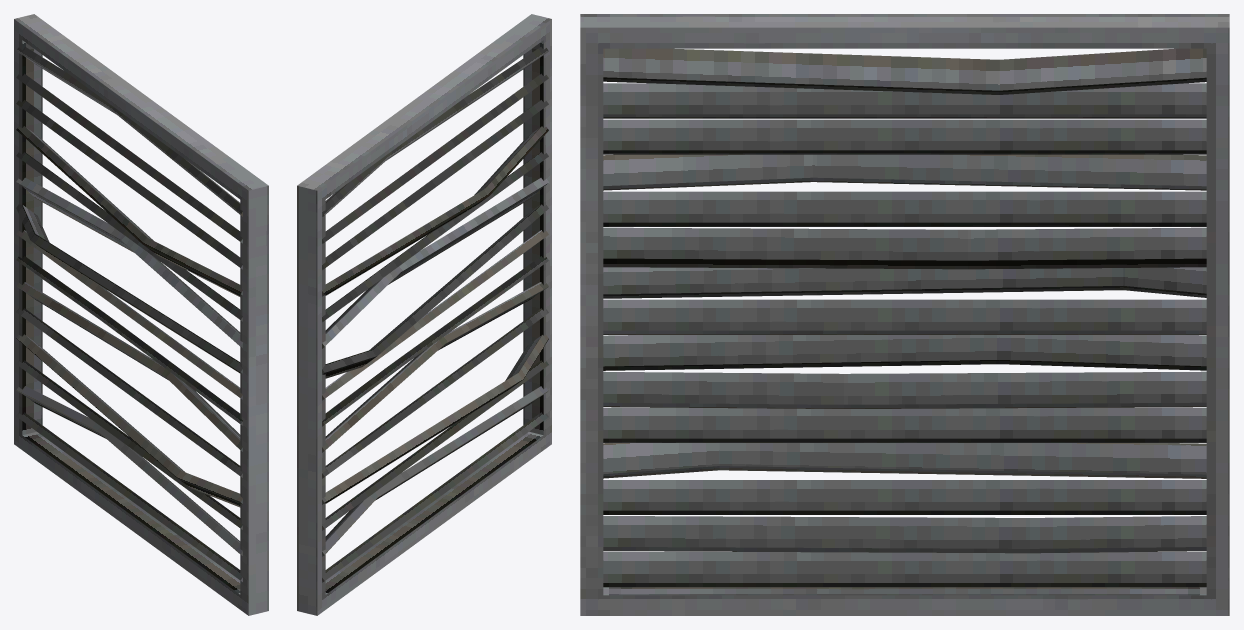
File: vent_cover_see_through_damaged.glb
3 renders of one model, left to right at view 1: azimuth 30°, elevation 25°; view 2: azimuth 150°, elevation 25°; view 3: azimuth 270°, elevation 25°, orthographic. The views are drawn at different scales.
Parts seen in each view (by area): view 1: vent_cover_see_through_damaged; view 2: vent_cover_see_through_damaged; view 3: vent_cover_see_through_damaged.
Part boxes in pixels (bbox=[...]): vent_cover_see_through_damaged: bbox=[14, 14, 268, 615]; vent_cover_see_through_damaged: bbox=[297, 14, 551, 615]; vent_cover_see_through_damaged: bbox=[580, 14, 1229, 615].
Bounding box in the file's own units: 0.1315 × 1 × 1.
1 material, 1 textured.
